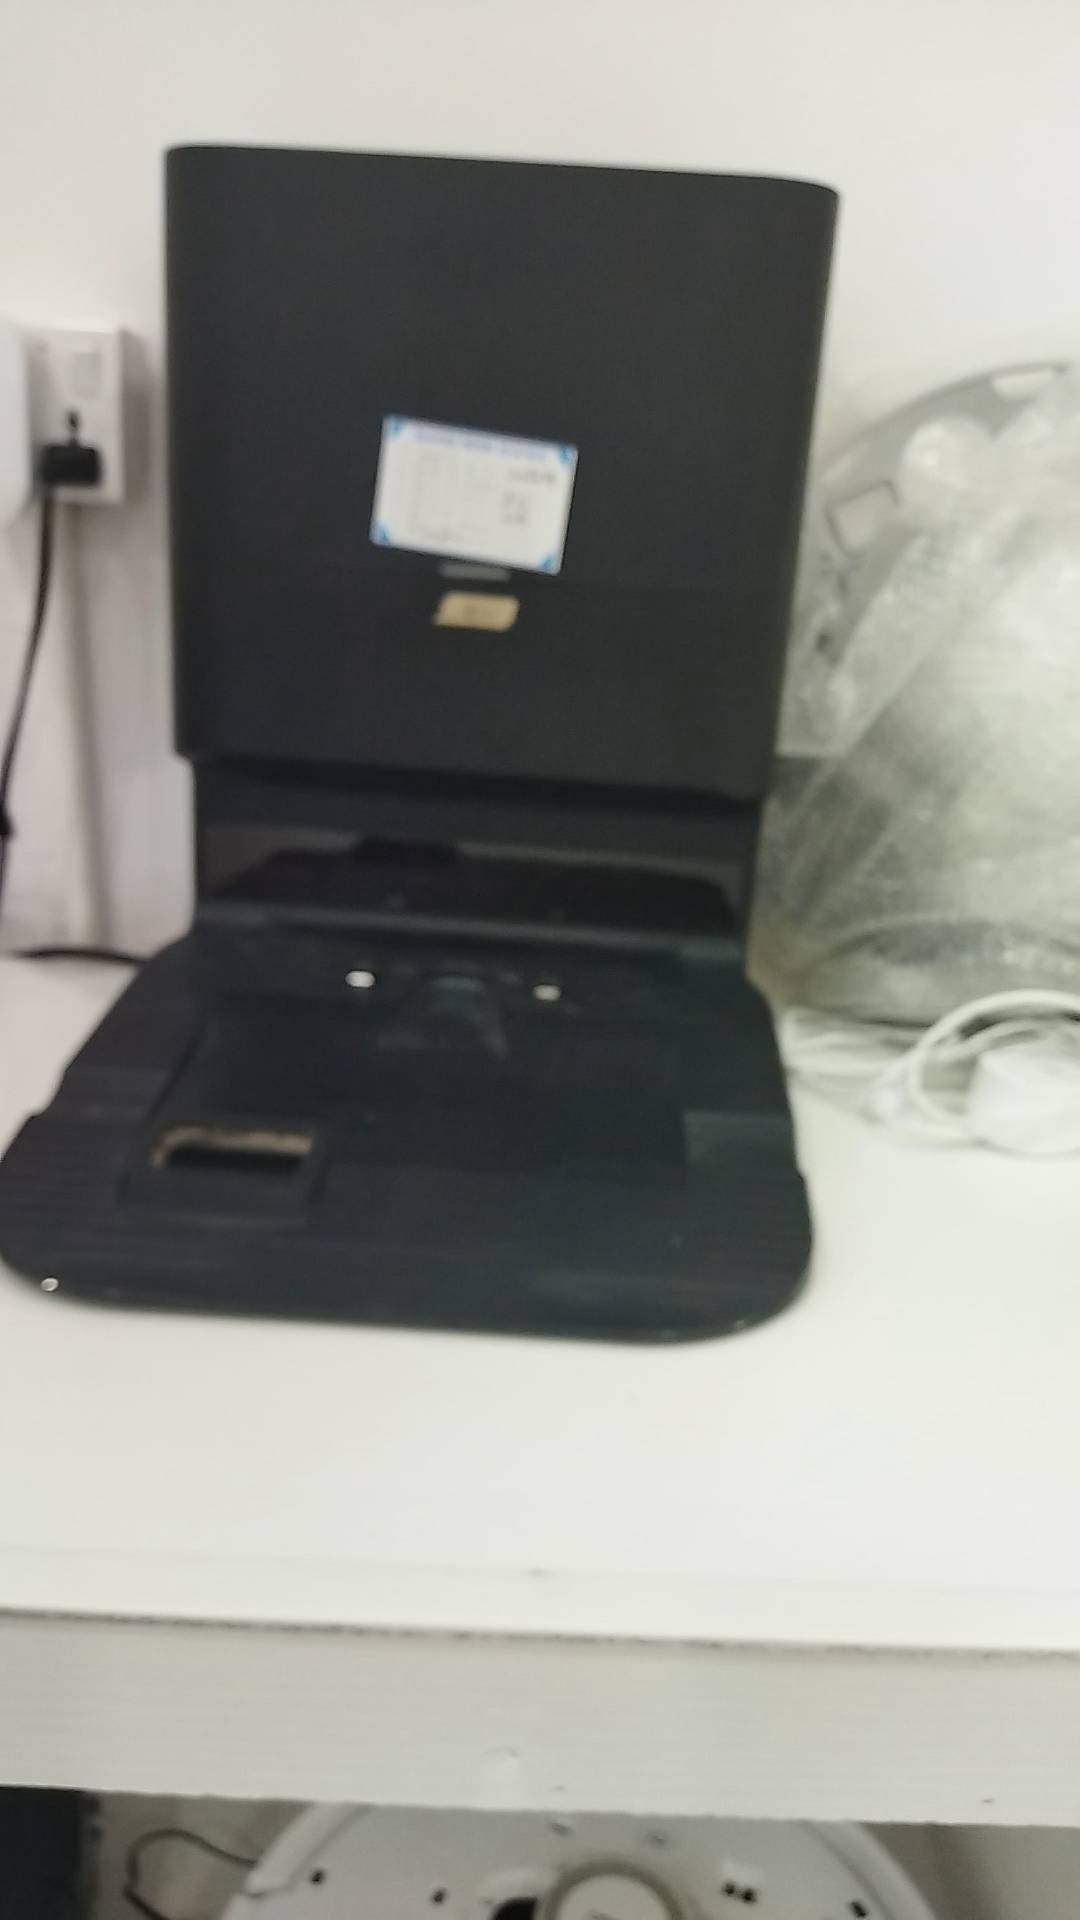dust collecting barrel: (1, 145, 841, 1352)
